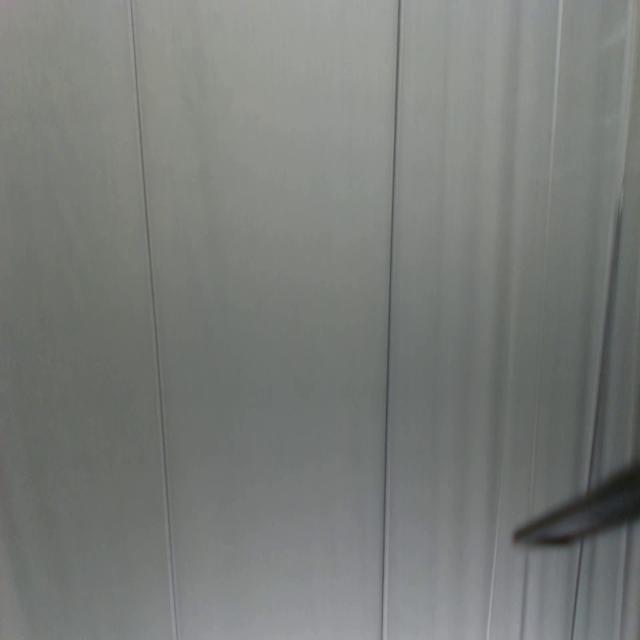crease: (128, 1, 182, 640), (568, 173, 627, 640), (379, 0, 405, 637), (540, 0, 565, 290), (482, 486, 504, 637)
